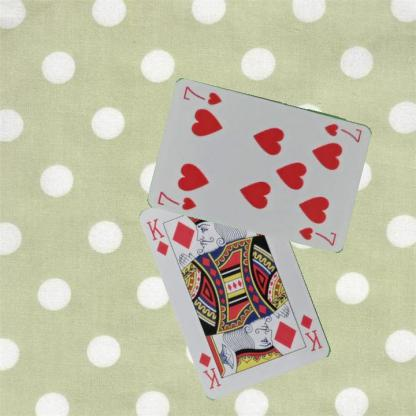7h: (155, 188, 199, 212), (322, 120, 364, 144)
Kd: (298, 311, 324, 353), (144, 216, 170, 257)
